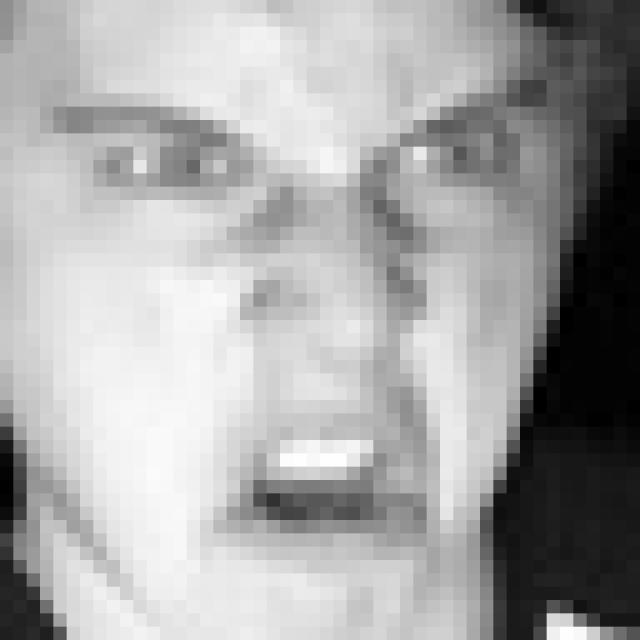disgust: (35, 72, 553, 582)
